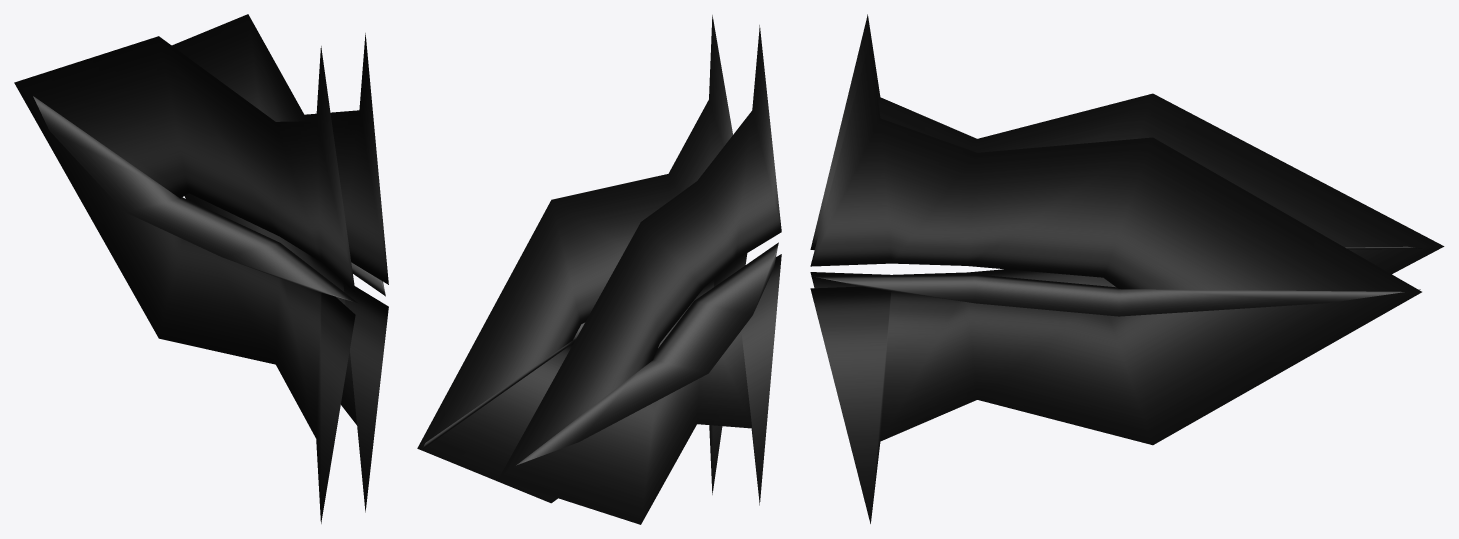
The model's file is heiantianshizhijian002.fbx.
3 renders of one model, left to right at view 1: azimuth 30°, elevation 25°; view 2: azimuth 150°, elevation 25°; view 3: azimuth 270°, elevation 25°, orthographic.
Visible parts, largest first — view 1: heiantianshizhijian002; view 2: heiantianshizhijian002; view 3: heiantianshizhijian002.
Boxes of the visible parts, box(x1,y1,x2,y2) form: heiantianshizhijian002: box(14, 14, 388, 523); heiantianshizhijian002: box(417, 15, 781, 524); heiantianshizhijian002: box(810, 14, 1444, 523).
Bounding box in the file's own units: 80.21 × 193 × 227.
